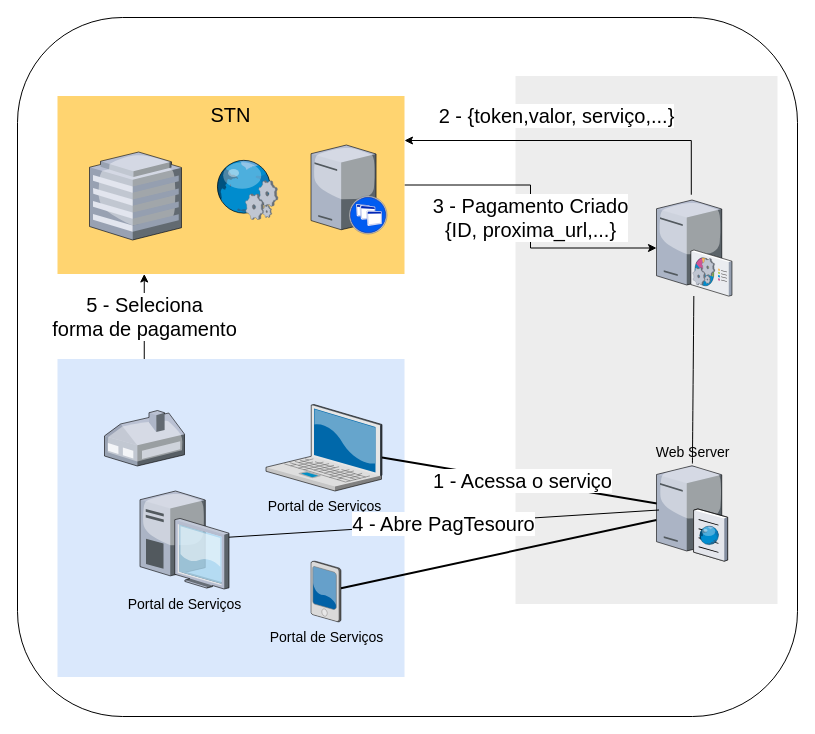
The diagram is 815 pixels wide and 734 high, and some of its shapes have lost their labels. Here are the shapes that lost their labels. From the top down, the box of each, then its label:
(214, 159, 278, 219): API REST
(515, 76, 777, 604): LECOM
(57, 358, 404, 676): Cidadão
